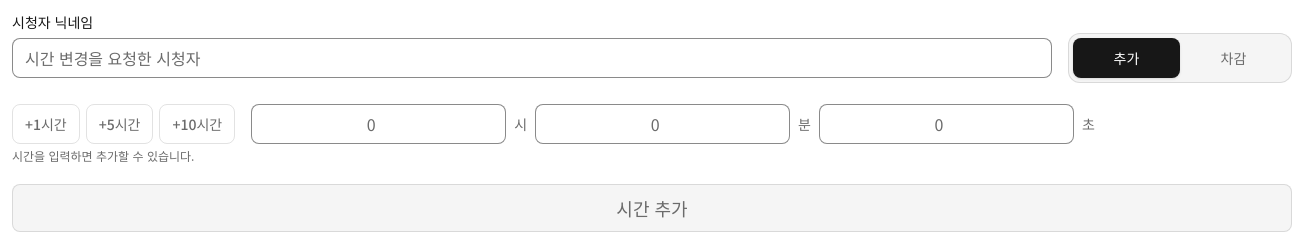
Test case: TimerControls › accumulates preset clicks in standard mode
Click the button "+1시간".
click(46, 124)  # box [12,104,80,144]
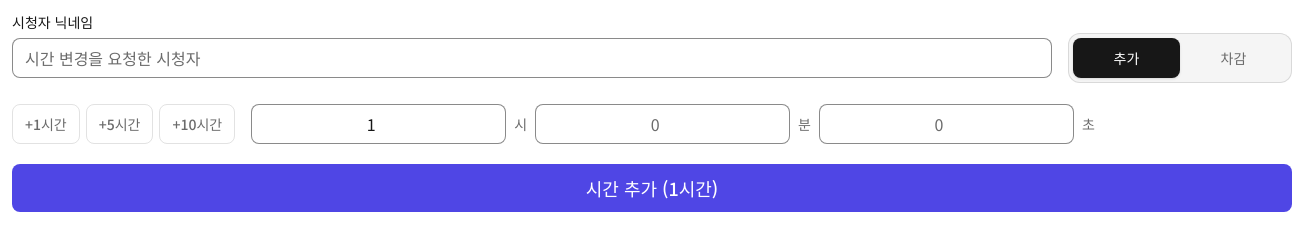
Click the button "+1시간".
click(46, 124)  # box [12,104,80,144]
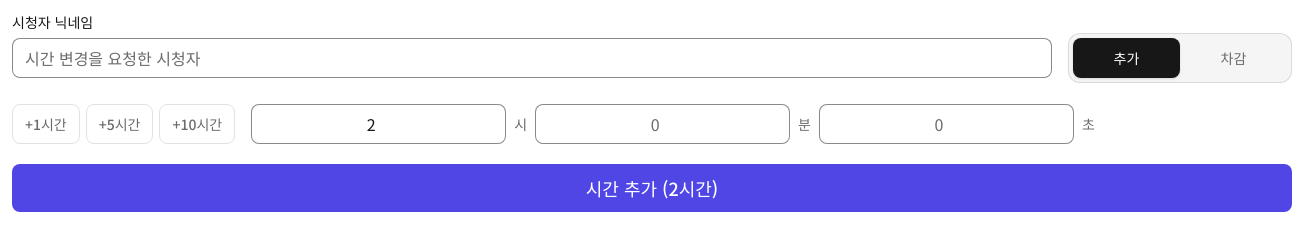
Result: the button "시간 추가 (2시간)" is shown at [12,164,1292,212]
